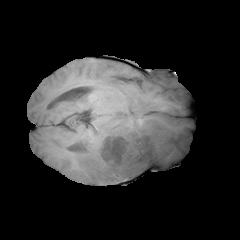glioma: (71, 105, 171, 184)
